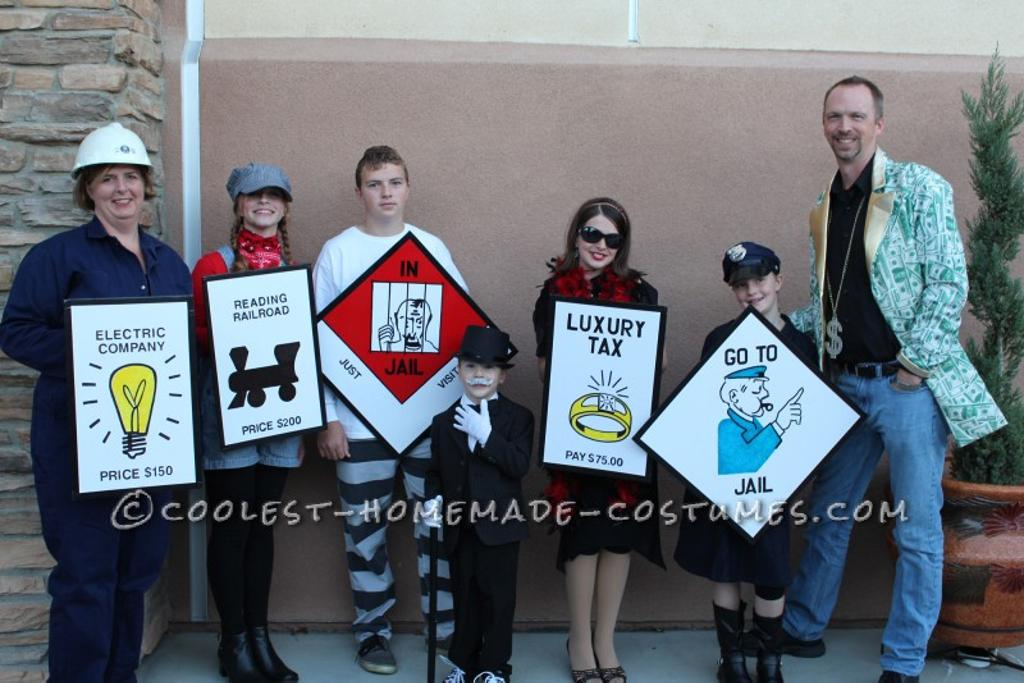face: (824, 93, 874, 158), (94, 160, 142, 214), (363, 169, 404, 216), (244, 178, 285, 224), (734, 266, 775, 311), (578, 224, 619, 267), (461, 354, 499, 393)
